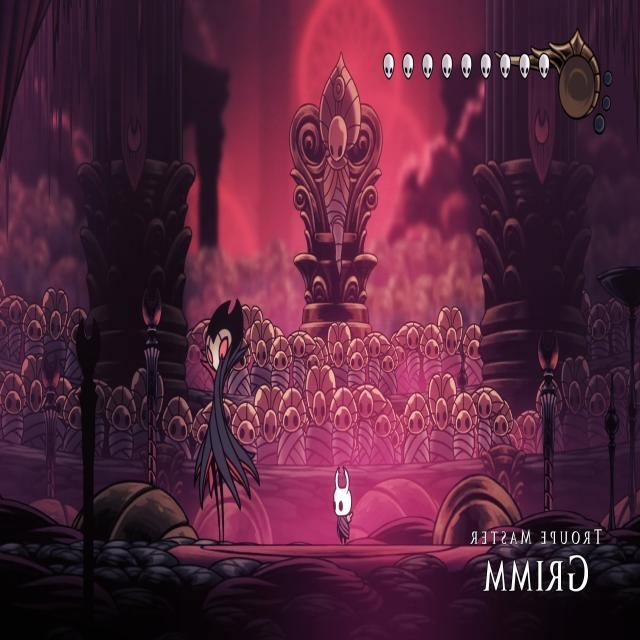Grimm: (188, 293, 262, 544)
Player: (331, 462, 356, 544)
